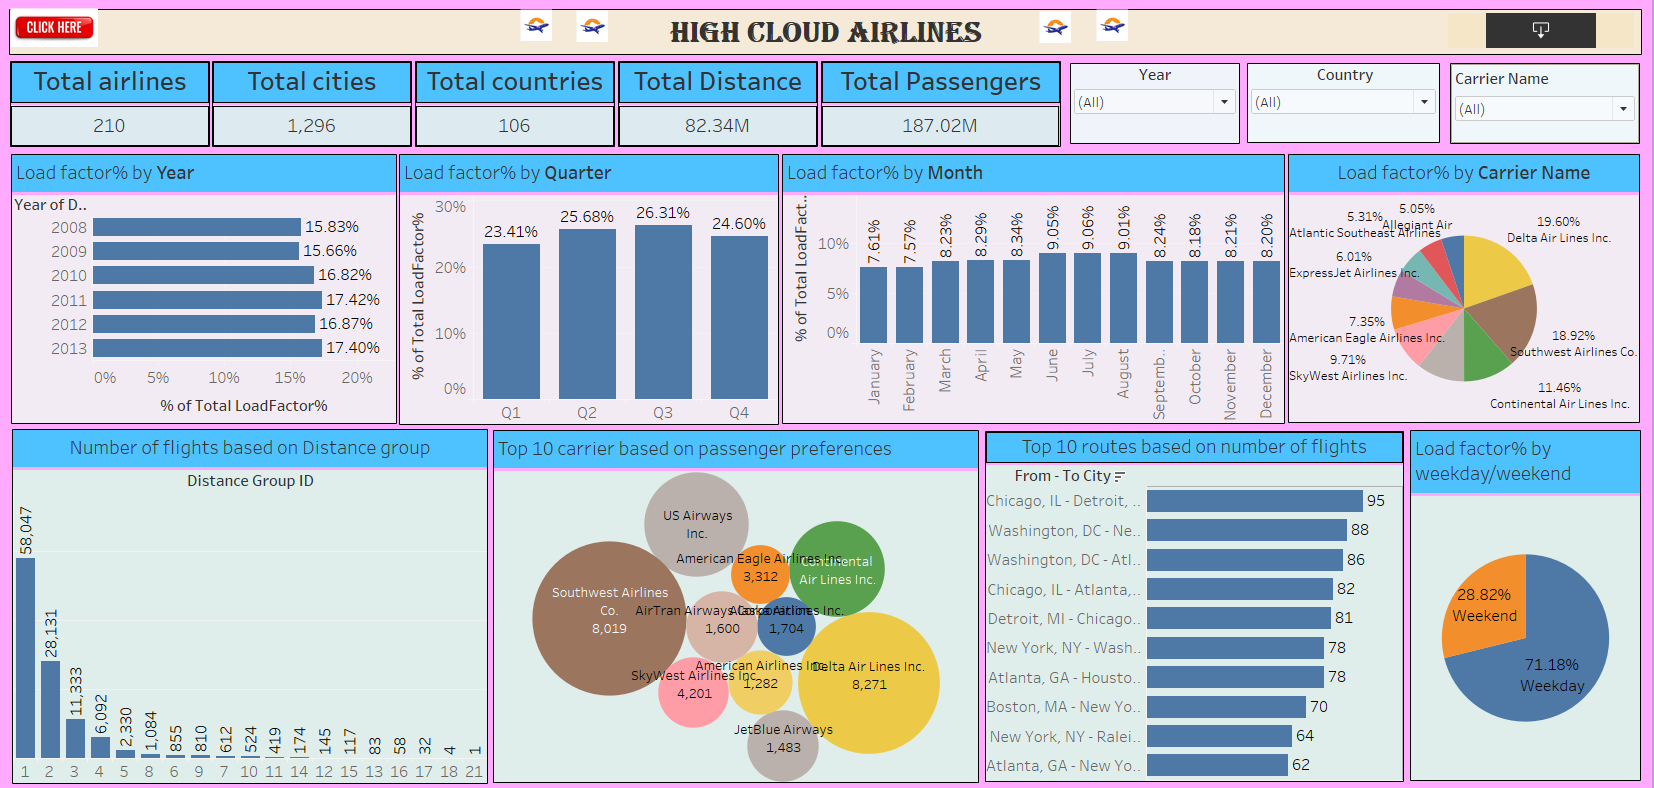

Layout of this report page (visuals, bound fields, positions):
{"tool":"tableau","page":{"name":"Dashboard 1","canvas":[1000,1000],"units":"permille","ordinal":0},"visuals":[{"type":"title","box":[4.8,10,990.3,67.4]},{"type":"image","param":"Image/download 1.jpeg","box":[7.9,13.7,114.1,48.7]},{"type":"image","param":"Image/download.jpeg","box":[275.2,15,56.7,37.5]},{"type":"image","param":"Image/airplane-logo-template-airplane-logo-elements-airplane-logo-icon-vector.jp","box":[315.6,15,31.4,40]},{"type":"image","param":"Image/download.jpeg","box":[325.3,15,67.6,38.7]},{"type":"image","param":"Image/airplane-logo-template-airplane-logo-elements-airplane-logo-icon-vector.jp","box":[663.2,15,31.4,40]},{"type":"image","param":"Image/airplane-logo-template-airplane-logo-elements-airplane-logo-icon-vector.jp","box":[349.4,16.2,31.4,40]},{"type":"image","param":"Image/airplane-logo-template-airplane-logo-elements-airplane-logo-icon-vector.jp","box":[628.9,17.5,31.4,40]},{"type":"dashboard-object","box":[875.7,20,112.2,43.7]},{"type":"worksheet","title":"Total airlines","mark":"Automatic","box":[7.9,79.9,120.7,107.4]},{"type":"worksheet","title":"Total cities","mark":"Automatic","box":[129.8,79.9,120.7,107.4]},{"type":"worksheet","title":"Total countries","mark":"Automatic","box":[252.3,79.9,120.7,107.4]},{"type":"worksheet","title":"Total Distance","mark":"Automatic","box":[374.8,79.9,120.7,107.4]},{"type":"worksheet","title":"Total Passengers","mark":"Automatic","box":[497.3,79.9,144.8,107.4]},{"type":"filter","title":"KPI22","param":"[federated.08m16590t00yph1cbb9fu1maycqq].[yr:Date:ok]","box":[647.6,82.4,102.6,101.1]},{"type":"filter","title":"Total countries","param":"[federated.08m16590t00yph1cbb9fu1maycqq].[none:Origin Country:nk]","box":[754.4,82.4,116.5,99.9]},{"type":"filter","title":"KPI4","param":"[federated.08m16590t00yph1cbb9fu1maycqq].[none:Carrier Name:nk]","box":[876.9,82.4,114.7,101.1]},{"type":"worksheet","title":"KPI22","mark":"Bar","rows":["Date"],"box":[8.4,196,233,337.1]},{"type":"worksheet","title":"KPI21","mark":"Bar","rows":["LoadFactor%"],"cols":["Date"],"box":[242.6,196,229.3,338.3]},{"type":"worksheet","title":"KPI23","mark":"Bar","rows":["LoadFactor%"],"cols":["Date"],"box":[473.8,196,303.6,337.1]},{"type":"worksheet","title":"KPI3","mark":"Pie","box":[779.1,196,212.4,335.8]},{"type":"worksheet","title":"KPI7.","mark":"Automatic","rows":["%Airline ID"],"cols":["%Distance Group ID"],"box":[9.1,539.3,287.3,443.2]},{"type":"worksheet","title":"KPI4","mark":"Circle","box":[299.3,540.6,293.3,440.7]},{"type":"worksheet","title":"KPI6","mark":"Pie","box":[852.8,540.6,139.4,438.2]},{"type":"worksheet","title":"KPI5","mark":"Automatic","rows":["From - To City"],"cols":["# Departures Performed"],"box":[596.3,541.8,252.9,438.2]}]}

Visuals, with their boxes on the dashboard's canvas, which has no fixed pixel size, in thousandths of its width and height (x1, y1, x2, y2). These are canvas units, not pixel positions in the 1654x788 screenshot, which may show the page scaled, cropped or inside an application window:
title: [5, 10, 995, 77]
image: [8, 14, 122, 62]
image: [275, 15, 332, 52]
image: [316, 15, 347, 55]
image: [325, 15, 393, 54]
image: [663, 15, 695, 55]
image: [349, 16, 381, 56]
image: [629, 18, 660, 58]
dashboard-object: [876, 20, 988, 64]
"Total airlines" worksheet: [8, 80, 129, 187]
"Total cities" worksheet: [130, 80, 250, 187]
"Total countries" worksheet: [252, 80, 373, 187]
"Total Distance" worksheet: [375, 80, 496, 187]
"Total Passengers" worksheet: [497, 80, 642, 187]
"KPI22" filter: [648, 82, 750, 184]
"Total countries" filter: [754, 82, 871, 182]
"KPI4" filter: [877, 82, 992, 184]
"KPI22" worksheet (Bar marks): [8, 196, 241, 533]
"KPI21" worksheet (Bar marks): [243, 196, 472, 534]
"KPI23" worksheet (Bar marks): [474, 196, 777, 533]
"KPI3" worksheet (Pie marks): [779, 196, 992, 532]
"KPI7." worksheet: [9, 539, 296, 982]
"KPI4" worksheet (Circle marks): [299, 541, 593, 981]
"KPI6" worksheet (Pie marks): [853, 541, 992, 979]
"KPI5" worksheet: [596, 542, 849, 980]
